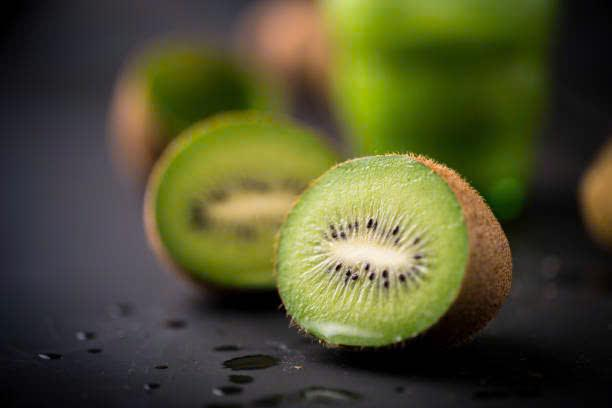kiwi: (269, 149, 516, 357), (139, 105, 275, 286)
